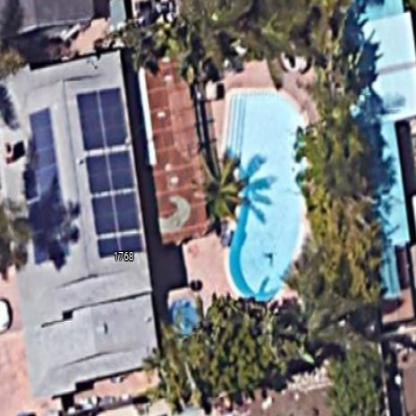poolww: (210, 72, 321, 312)
